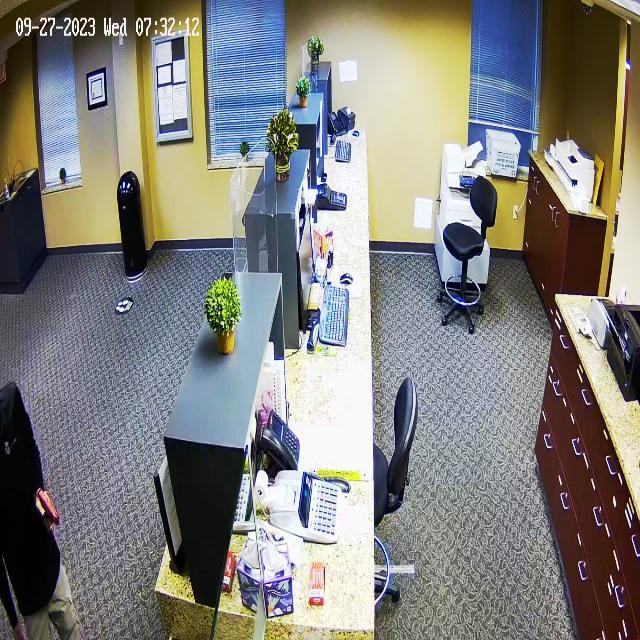Gun: (22, 476, 71, 528)
